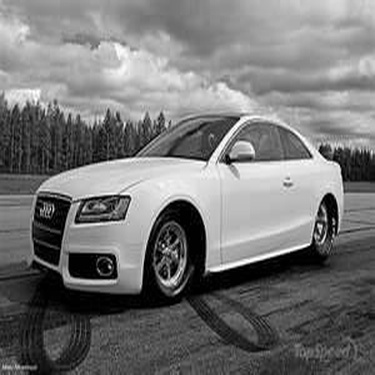car: (23, 103, 350, 311)
